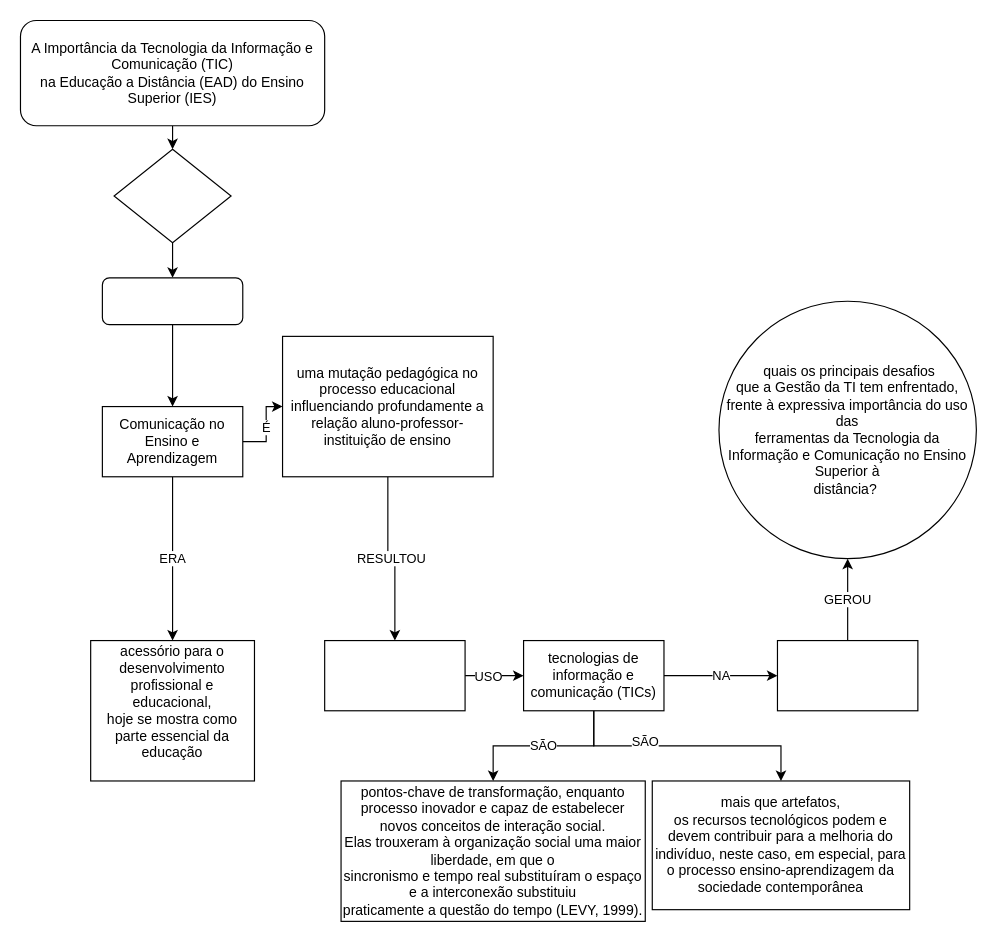
The diagram is 997 pixels wide and 942 high, and some of its shapes have lost their labels. Here are the shapes that lost their labels. From the top down, the centre of each, then its label:
At (172,195): "Se divide em".
At (172,301): "INTRODUÇÃO".
At (394,675): "Transformação Metodológica na Educação Contemporânea".
At (847,675): "modalidade de educação superior (IES) a distância (EAD)".
